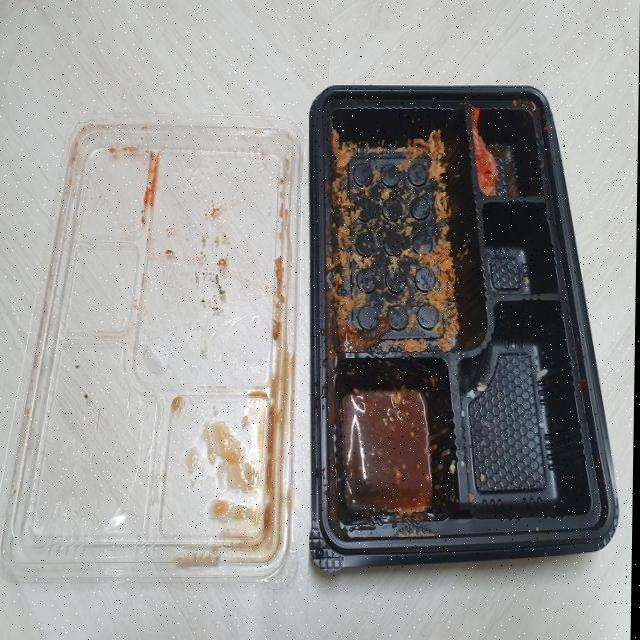disposable: (276, 74, 639, 600)
